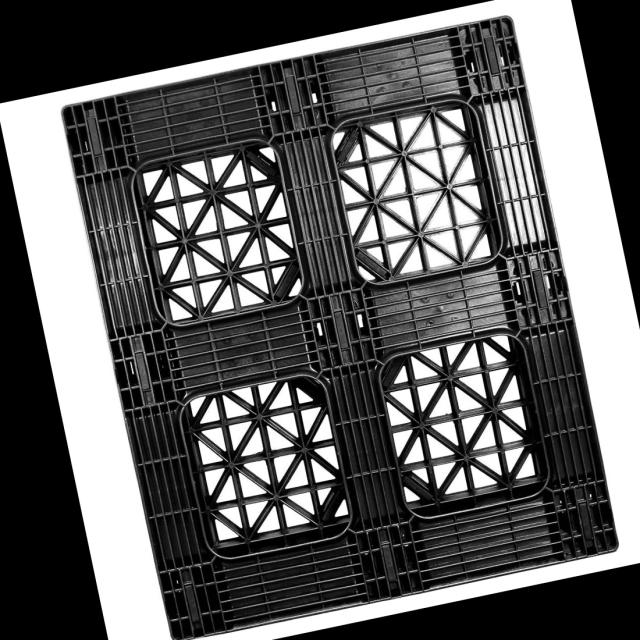non-igps: (55, 6, 627, 640)
